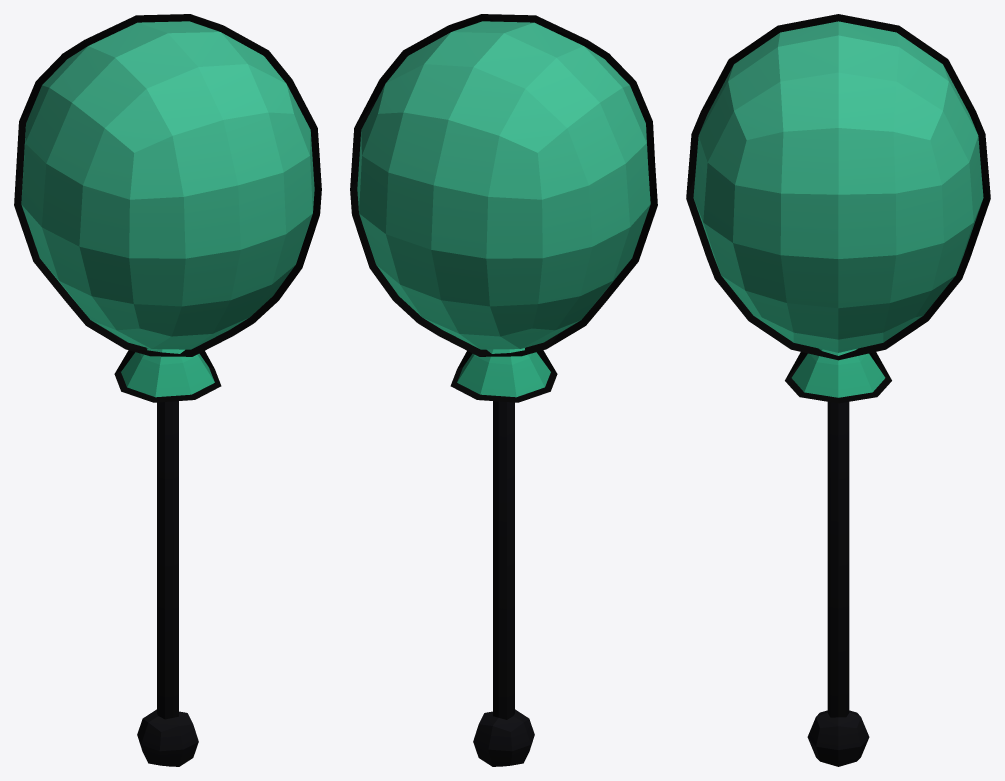
Rendered from item_balloon_green.fbx.
3 views of the same model, side by side, from view 1: azimuth 30°, elevation 25°; view 2: azimuth 150°, elevation 25°; view 3: azimuth 270°, elevation 25° (orthographic).
Visible parts, largest first — view 1: Balloon, BalloonThread; view 2: Balloon, BalloonThread; view 3: Balloon, BalloonThread.
Part boxes in pixels (x1,y1,x2,y2): Balloon: (14, 14, 321, 402); BalloonThread: (137, 401, 198, 766); Balloon: (350, 14, 657, 402); BalloonThread: (473, 401, 534, 766); Balloon: (686, 14, 990, 403); BalloonThread: (807, 402, 869, 766).
Size of the model in its own units: 82.56 by 220 by 82.56.
